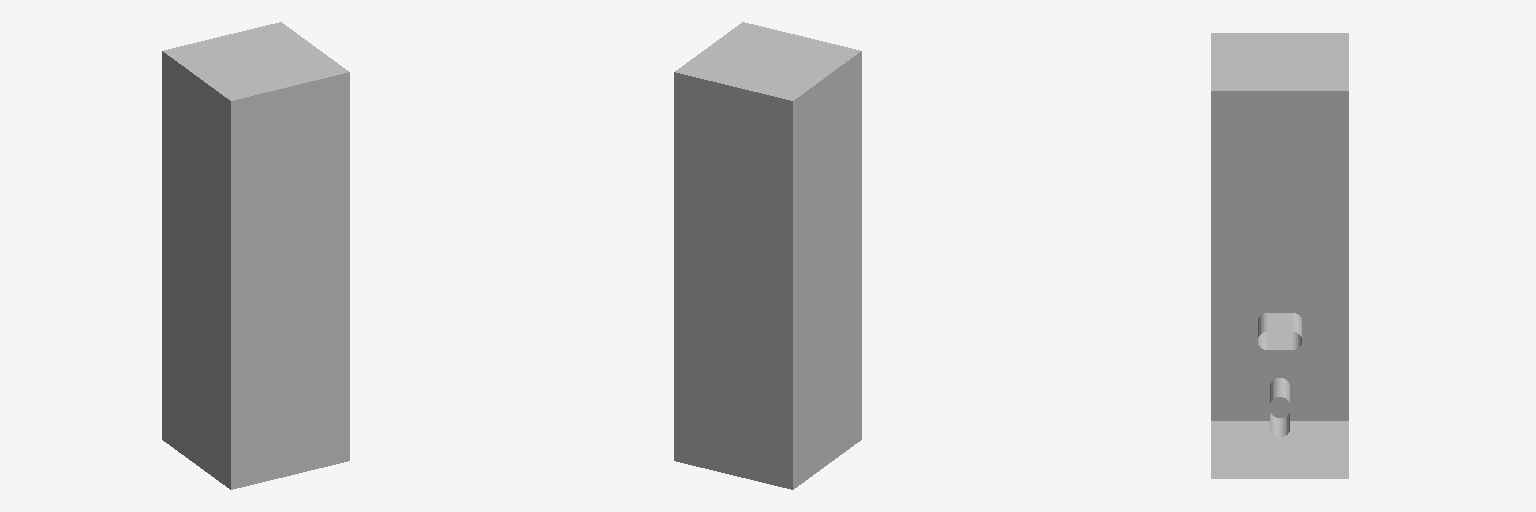
Rendered from a3_cut_0__8_1.obj.
3 views of the same model, side by side, from view 1: azimuth 30°, elevation 25°; view 2: azimuth 150°, elevation 25°; view 3: azimuth 270°, elevation 25° (orthographic).
Parts seen in each view (by area): view 1: 0; view 2: 0; view 3: 0.
Boxes of the visible parts, box(x1,y1,x2,y2) form: 0: box(162, 22, 349, 489); 0: box(674, 22, 861, 489); 0: box(1211, 33, 1348, 478).
Bounding box in the file's own units: 40 × 125 × 40.